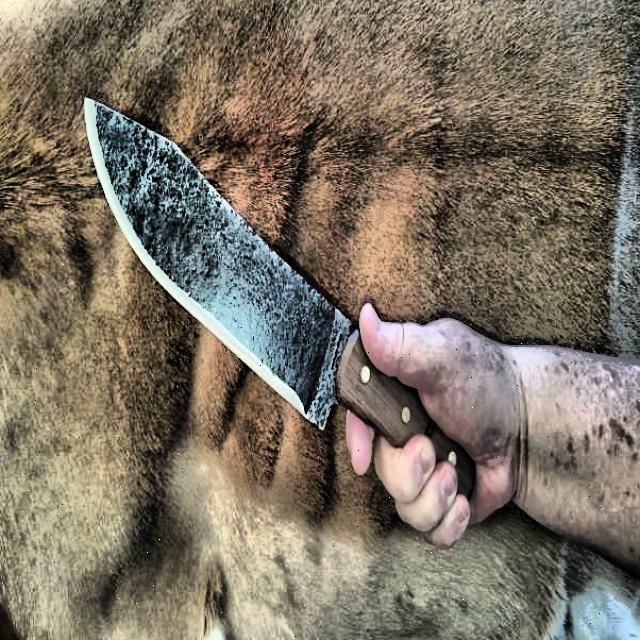knife: (83, 101, 481, 499)
